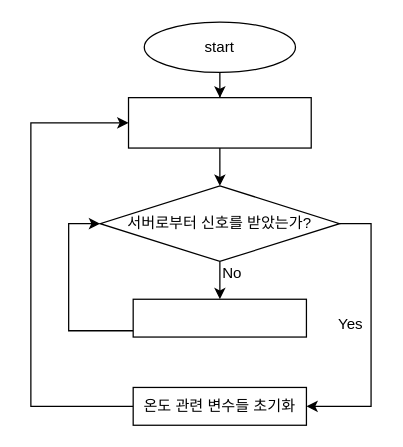
Some shapes in this 403 by 447 pixel diagram are drawn without their labels. Each missing label, with the box of its shape:
server부터 recvfrom() 실행: (127, 96, 311, 148)
신호를 받을 때까지 대기: (132, 298, 306, 337)
